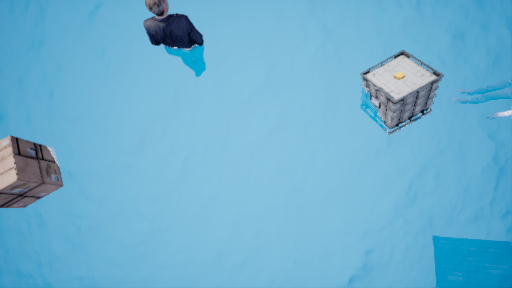person: (137, 1, 216, 87)
